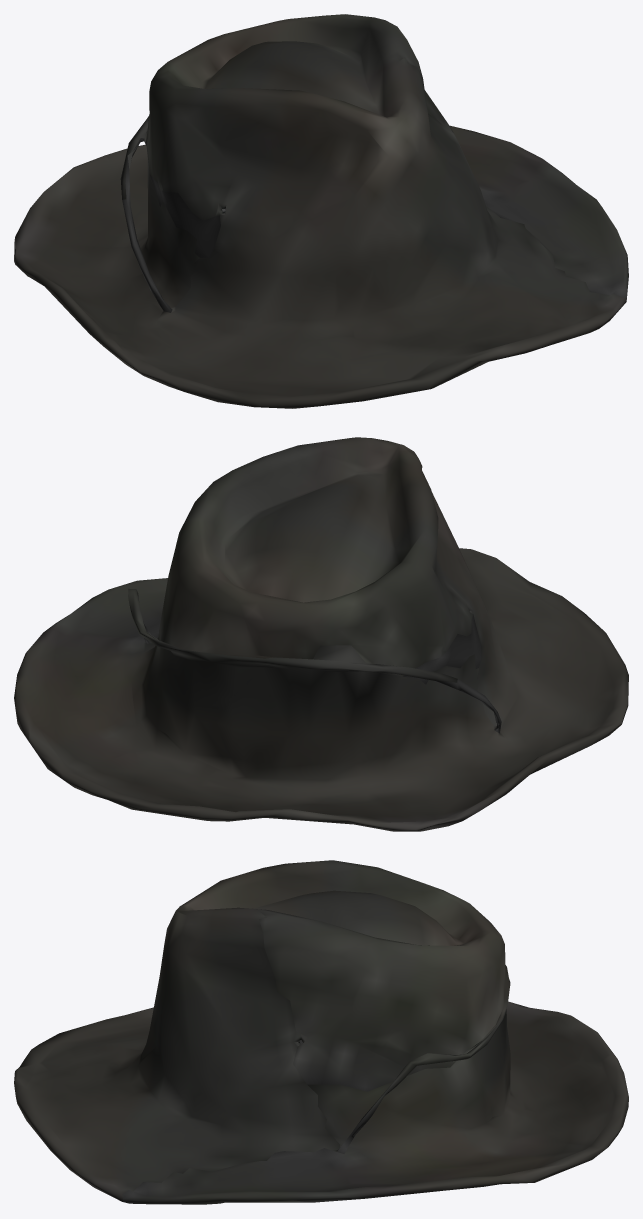
Rendered from DPC_Handmade_Hat_Brown-medium.glb.
The picture shows the model from 3 angles, top to bottom: view 1: azimuth 30°, elevation 25°; view 2: azimuth 150°, elevation 25°; view 3: azimuth 270°, elevation 25°; orthographic projection. The views are drawn at different scales.
Parts seen in each view (by area): view 1: DPC_Handmade_Hat_Brown; view 2: DPC_Handmade_Hat_Brown; view 3: DPC_Handmade_Hat_Brown.
Part boxes in pixels (x1,y1,x2,y2): DPC_Handmade_Hat_Brown: (14, 14, 628, 408); DPC_Handmade_Hat_Brown: (14, 437, 628, 831); DPC_Handmade_Hat_Brown: (14, 860, 628, 1204).
Size of the model in its own units: 0.3184 by 0.1431 by 0.3539.
1 material, 1 textured.
